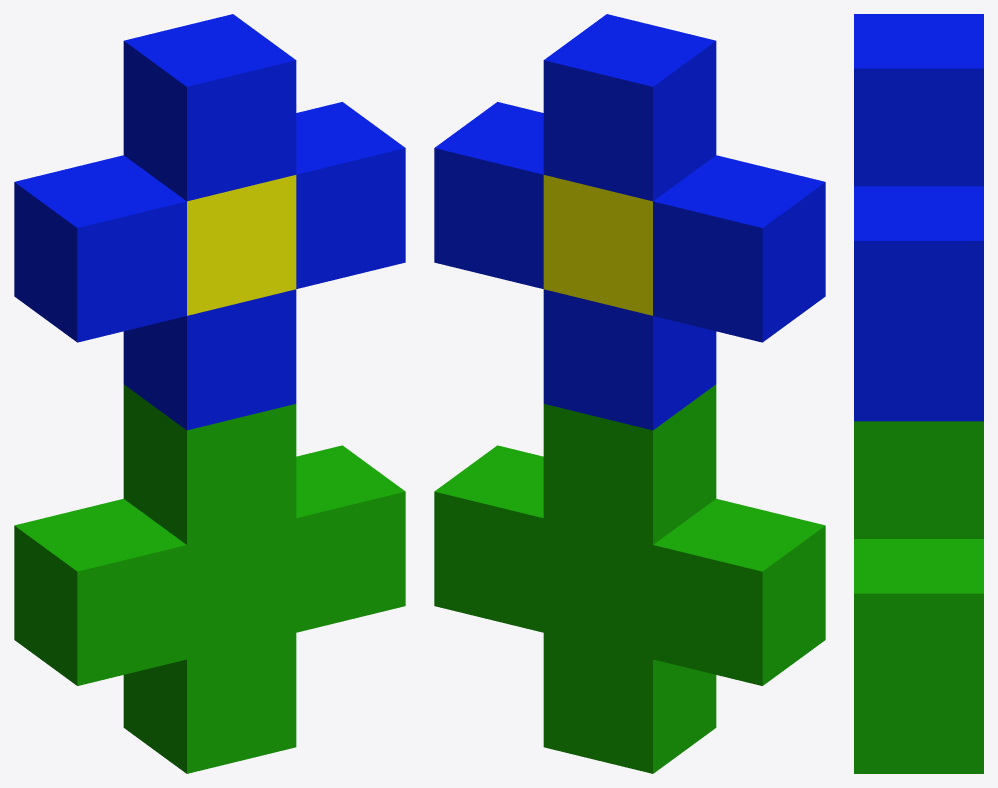
Rendered from Flax (Stage 5).obj.
3 views of the same model, side by side, from view 1: azimuth 30°, elevation 25°; view 2: azimuth 150°, elevation 25°; view 3: azimuth 270°, elevation 25° (orthographic). The views are drawn at different scales.
Bounding box in the file's own units: 0.3 × 0.6 × 0.1.
1 material, 1 textured.
